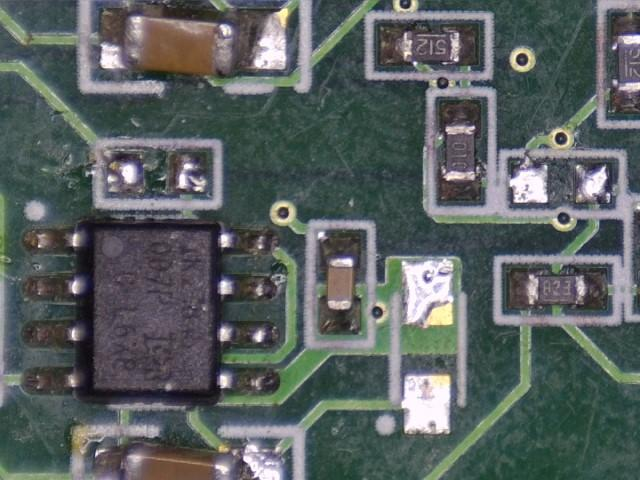pcb_defect: (98, 7, 288, 78), (90, 442, 283, 480)
